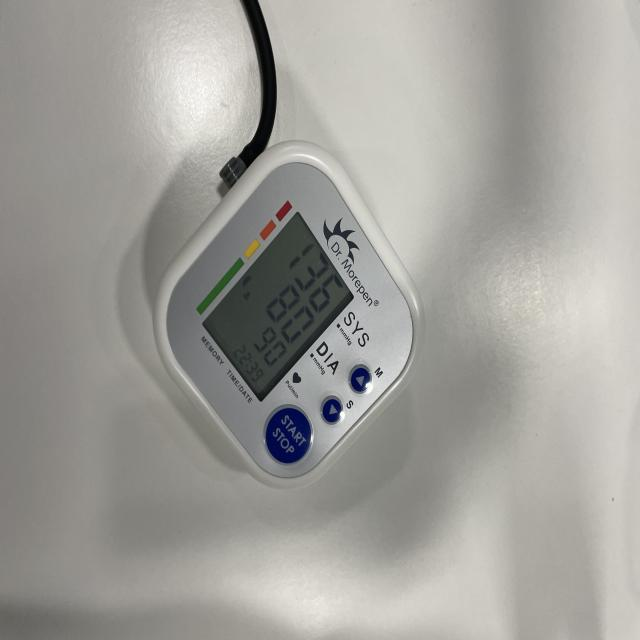bp: (155, 143, 422, 488)
